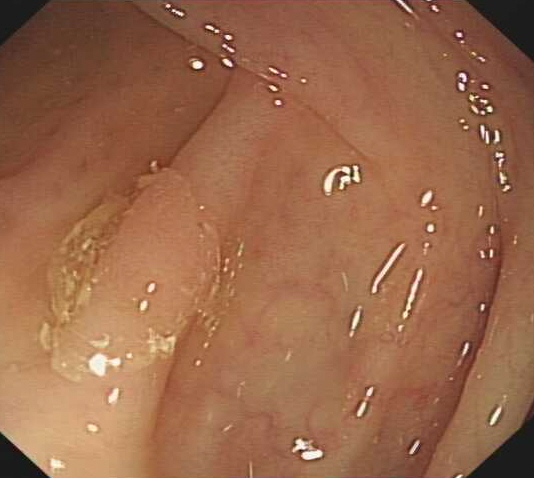others: (58, 171, 217, 366)
